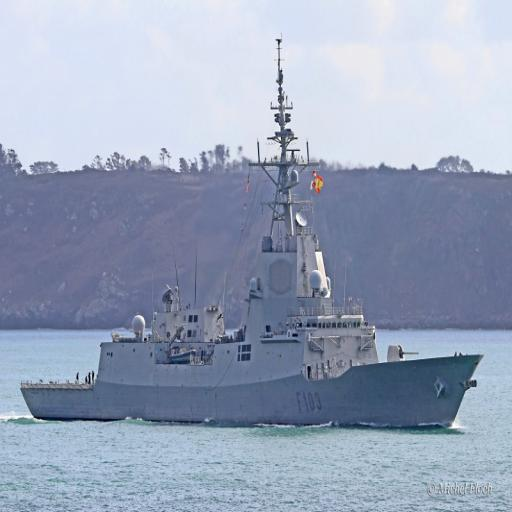Fragata: (22, 28, 486, 434)
